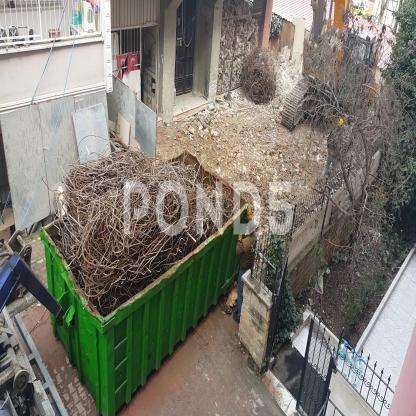rebar: (54, 152, 240, 317)
